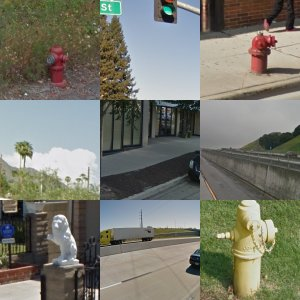公車: (1, 123, 94, 200), (99, 254, 193, 299), (57, 11, 101, 80)
汽車: (181, 50, 200, 81), (28, 19, 47, 34)
紅綠燈: (121, 124, 145, 173), (173, 150, 192, 177), (226, 121, 242, 138), (278, 124, 292, 139)
行人穿越道: (201, 215, 299, 253)
